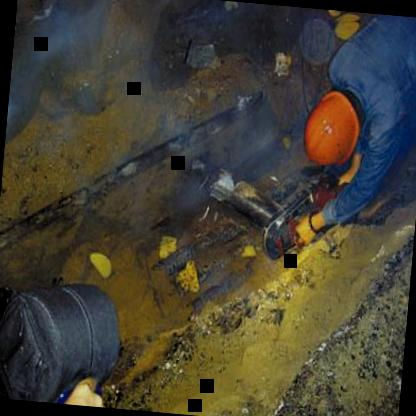helmet: (298, 84, 367, 181)
